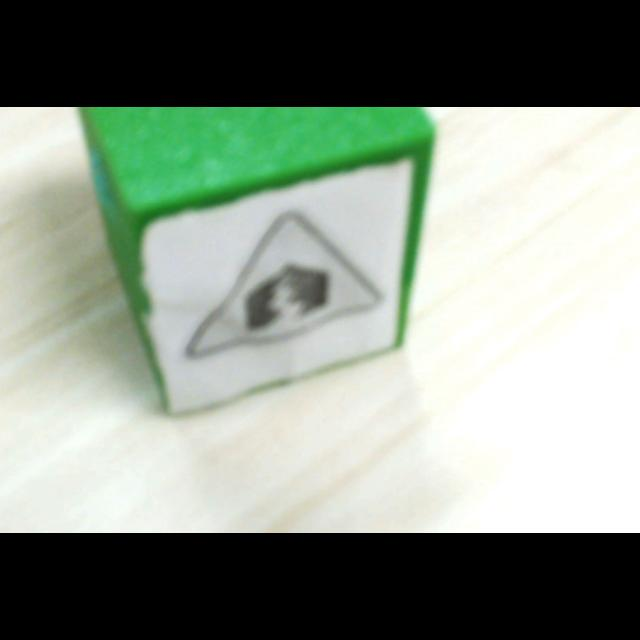Earthquake: (185, 212, 382, 359)
